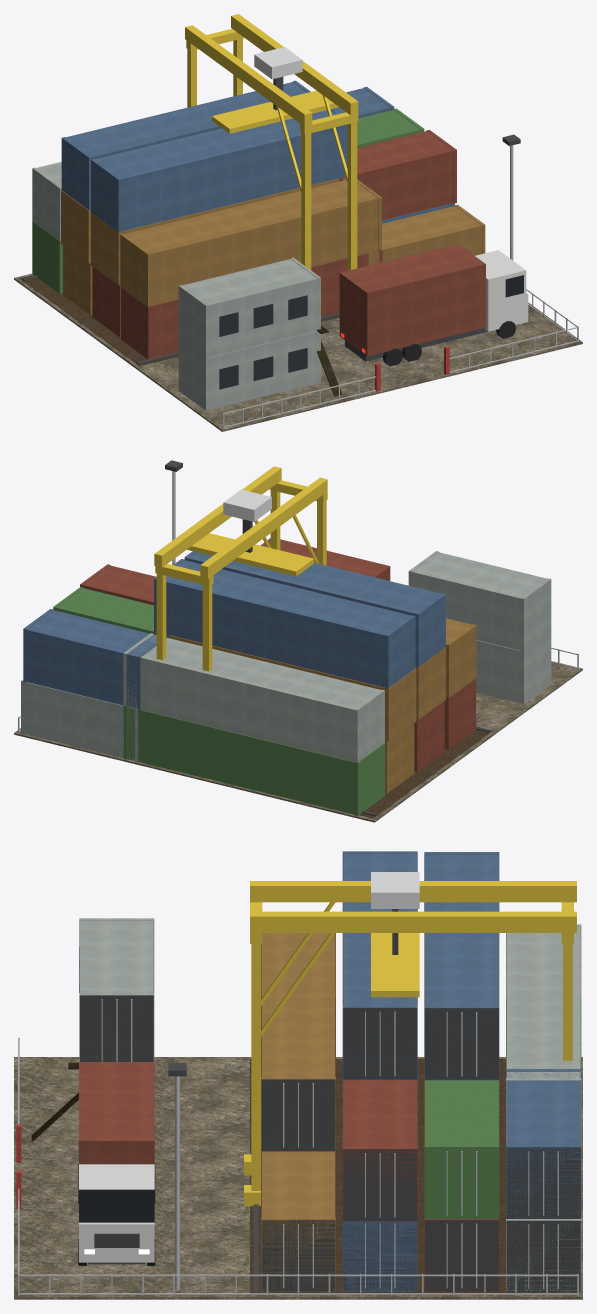
Rendered from storage_yard.glb.
3 views of the same model, one above another, from view 1: azimuth 30°, elevation 25°; view 2: azimuth 150°, elevation 25°; view 3: azimuth 270°, elevation 25° (orthographic). The views are drawn at different scales.
Parts seen in each view (by area): view 1: storage_yard_body; view 2: storage_yard_body; view 3: storage_yard_body.
Part boxes in pixels (<box>): storage_yard_body: <box>14,14,582,431</box>; storage_yard_body: <box>14,460,582,822</box>; storage_yard_body: <box>14,851,582,1299</box>.
Bounding box in the file's own units: 0.94 × 0.56 × 0.94.
20 materials, 8 textured.
